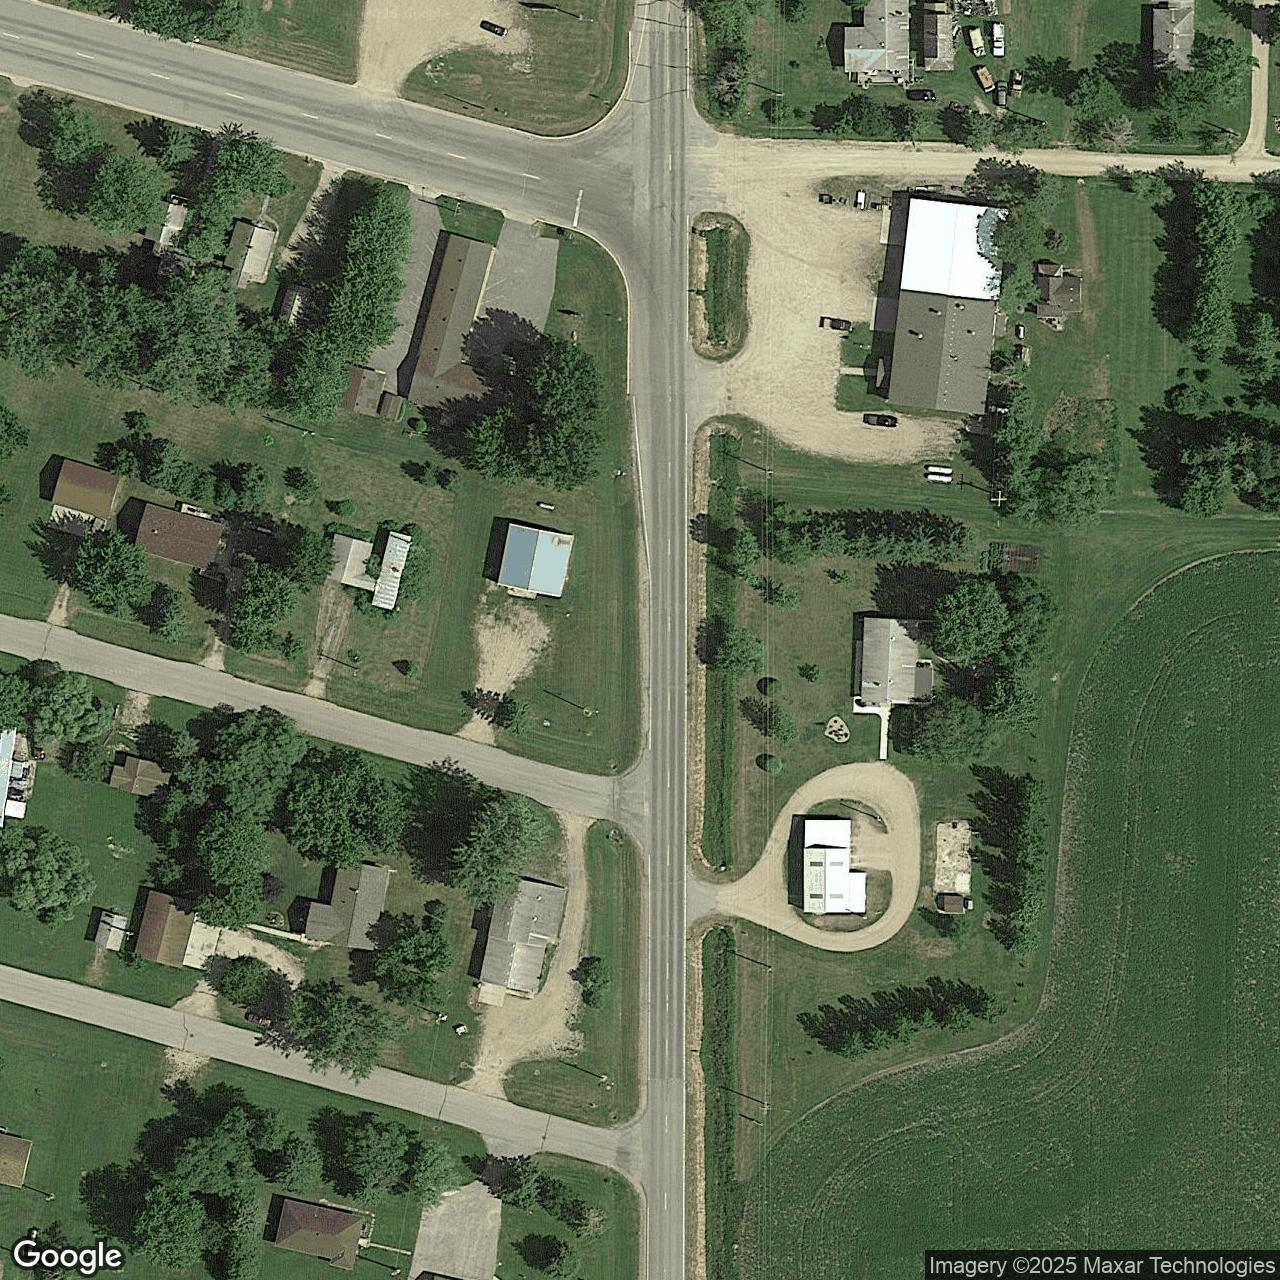Garage: (335, 363, 387, 417), (379, 392, 403, 422)
House: (886, 198, 1010, 414), (407, 233, 516, 424), (479, 874, 566, 994), (304, 862, 390, 951), (273, 1197, 365, 1271), (860, 617, 935, 704), (134, 502, 225, 571), (804, 818, 866, 914), (497, 523, 574, 598), (134, 890, 198, 969), (844, 0, 910, 73), (52, 457, 121, 519), (224, 219, 275, 290), (109, 756, 176, 801), (143, 197, 191, 258), (1152, 8, 1196, 72), (1037, 263, 1083, 318), (922, 1, 954, 70), (0, 1132, 34, 1190)
Propane: (925, 472, 955, 486), (926, 463, 955, 476), (537, 499, 557, 512), (1016, 324, 1027, 341)
Trailer: (372, 531, 413, 611)
